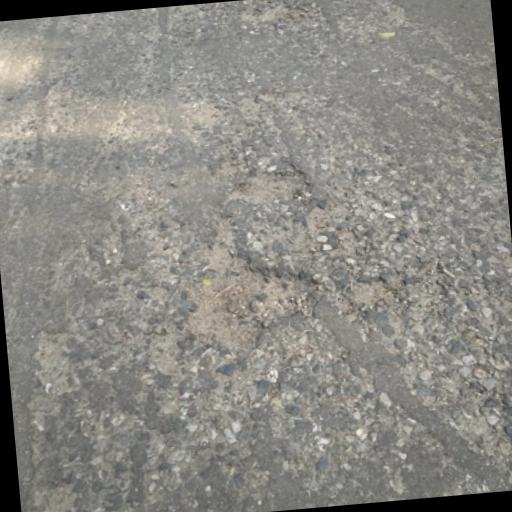pothole: (179, 233, 328, 357), (226, 163, 314, 212), (348, 274, 401, 308)
